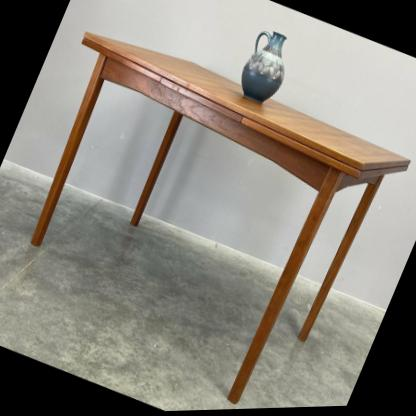Ceramic floor: (0, 160, 386, 412)
Table: (0, 0, 416, 416)
